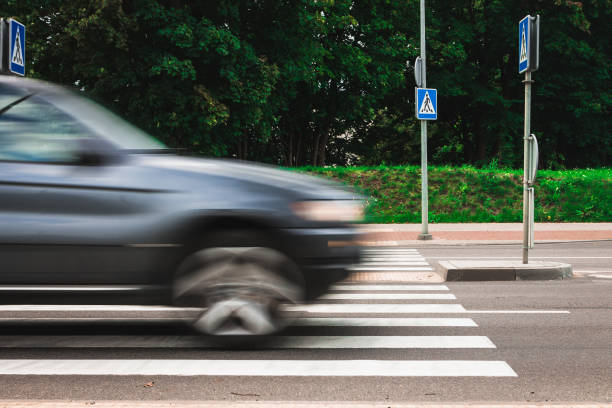otomobil: (0, 30, 371, 370)
yaya_gecidi: (414, 86, 445, 125)
